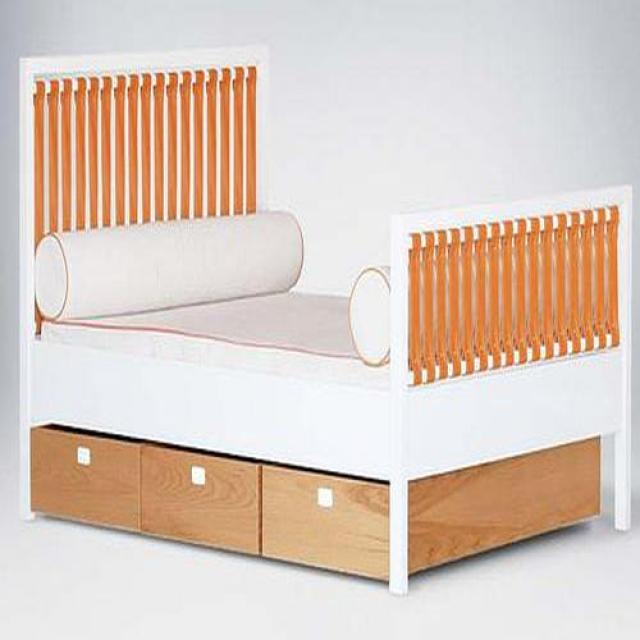bed: (23, 54, 636, 596)
